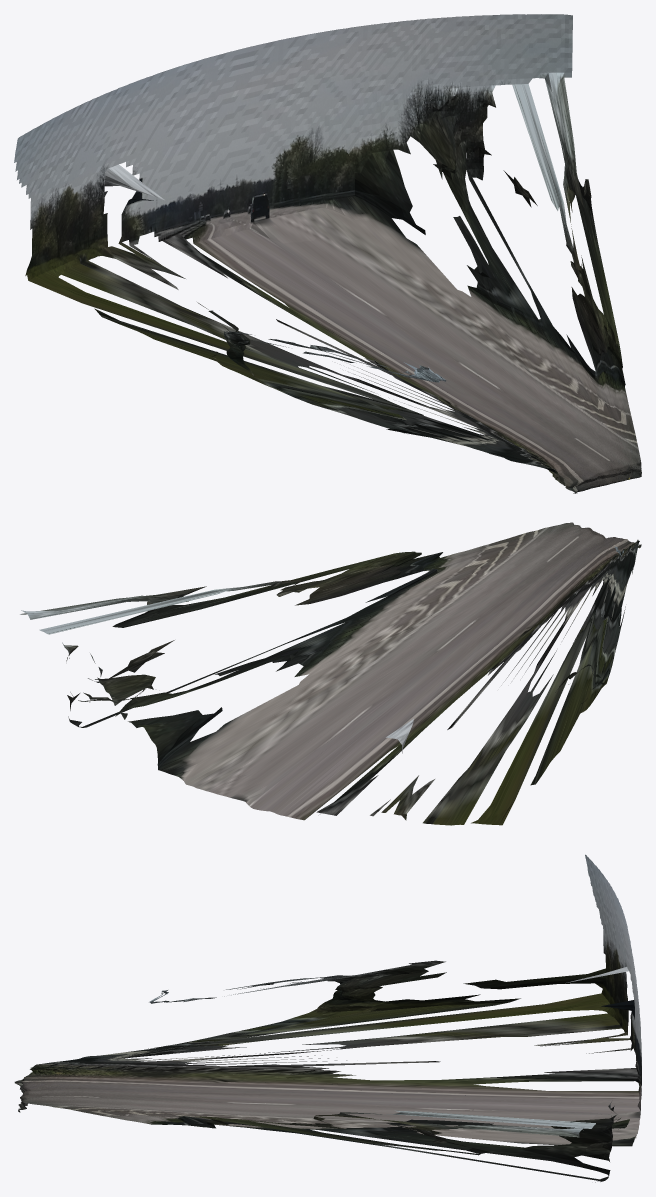
3 renders of one model, top to bottom at view 1: azimuth 30°, elevation 25°; view 2: azimuth 150°, elevation 25°; view 3: azimuth 270°, elevation 25°, orthographic. The views are drawn at different scales.
Visible parts, largest first — view 1: defaultobject; view 2: defaultobject; view 3: defaultobject.
Part boxes in pixels (left/top/right/bottom): defaultobject: left=14, top=14, right=641, bottom=493; defaultobject: left=20, top=522, right=641, bottom=825; defaultobject: left=14, top=854, right=641, bottom=1182.
Bounding box in the file's own units: 38.23 × 12.49 × 44.63.
1 material, 1 textured.
